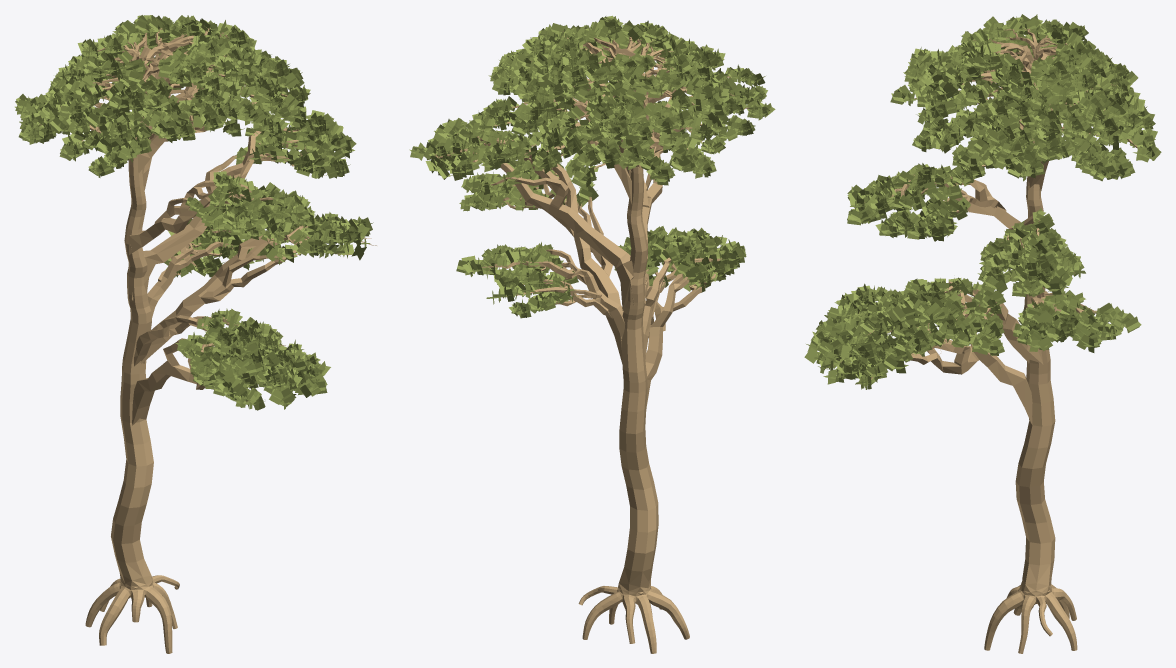
The model's file is tree_1.fbx.
3 views of the same model, side by side, from view 1: azimuth 30°, elevation 25°; view 2: azimuth 150°, elevation 25°; view 3: azimuth 270°, elevation 25° (orthographic). The views are drawn at different scales.
Visible parts, largest first — view 1: v5002_1z:niddles01, v5002_1z:branches01; view 2: v5002_1z:niddles01, v5002_1z:branches01; view 3: v5002_1z:niddles01, v5002_1z:branches01.
Boxes of the visible parts, x1=… form: v5002_1z:niddles01: x1=15, y1=15, x2=373, y2=410; v5002_1z:branches01: x1=39, y1=28, x2=376, y2=653; v5002_1z:niddles01: x1=409, y1=15, x2=775, y2=318; v5002_1z:branches01: x1=434, y1=31, x2=748, y2=653; v5002_1z:niddles01: x1=804, y1=14, x2=1161, y2=389; v5002_1z:branches01: x1=833, y1=28, x2=1143, y2=653.
Bounding box in the file's own units: 0.1831 × 0.3346 × 0.175.
